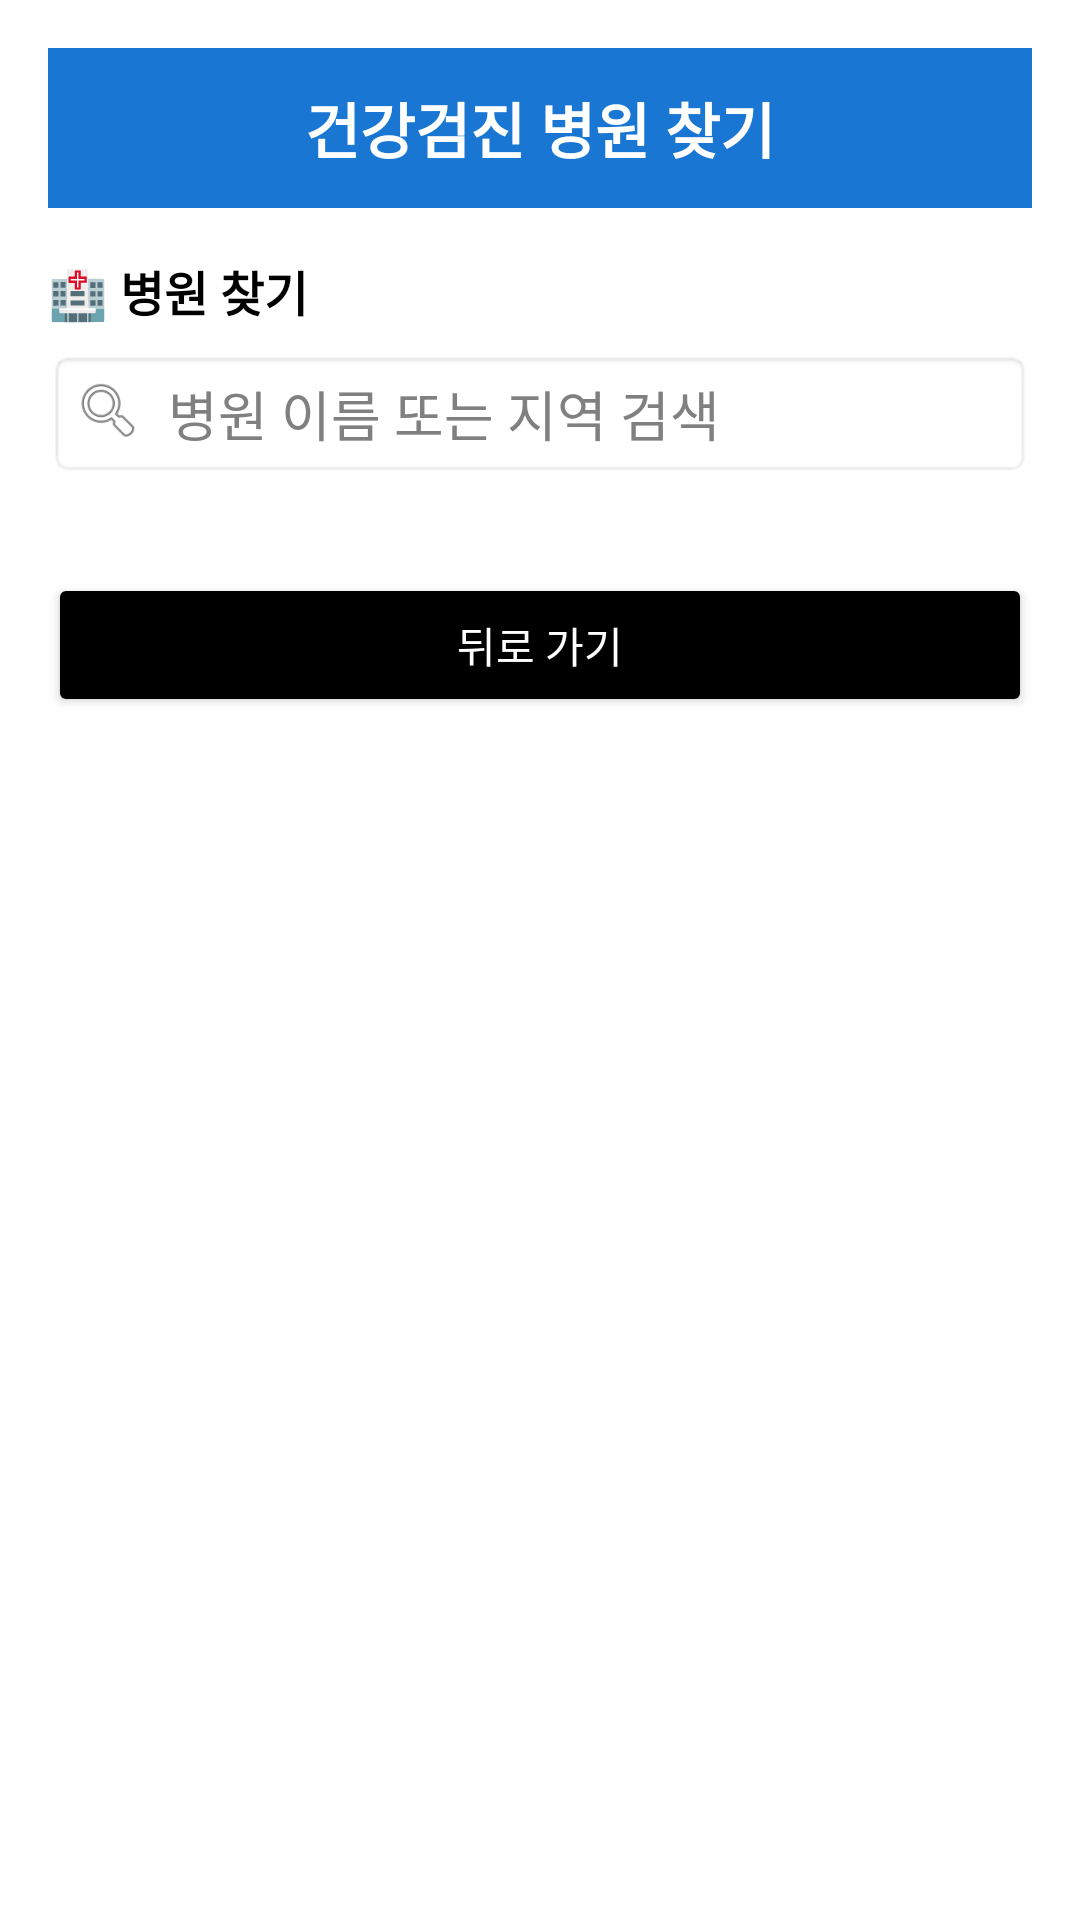

Point at icon controls on the screen. Image size 1080w x 1920h, points as (x,y).
search: (108,410)
